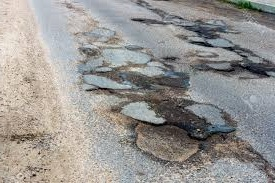pothole: (133, 122, 200, 164), (197, 134, 253, 162), (136, 77, 188, 98), (163, 100, 204, 121), (212, 63, 268, 76), (106, 63, 142, 76), (85, 84, 116, 97), (184, 37, 215, 48), (131, 18, 165, 25), (158, 52, 178, 63)
